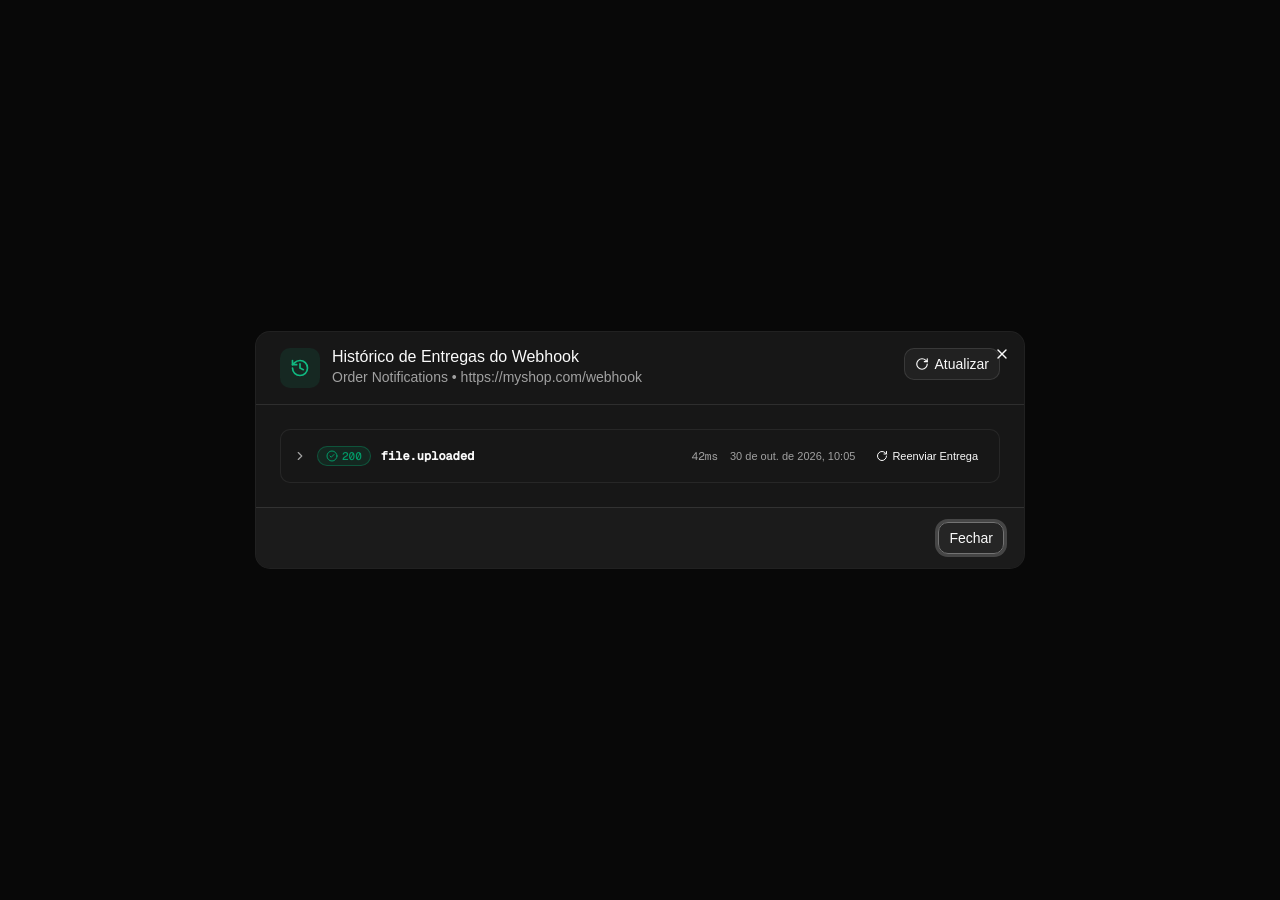
Test case: Frontend Webhooks Dialogs Suite › WebhookDeliveriesDialog displays deliveries and supports expansion
Expected: the text "200" is shown, left=342, top=449, right=362, bottom=463
Expected: the text "42ms" is shown, left=692, top=449, right=718, bottom=463
Click the text "file.uploaded" at [428, 456], box left=381, top=448, right=474, bottom=464
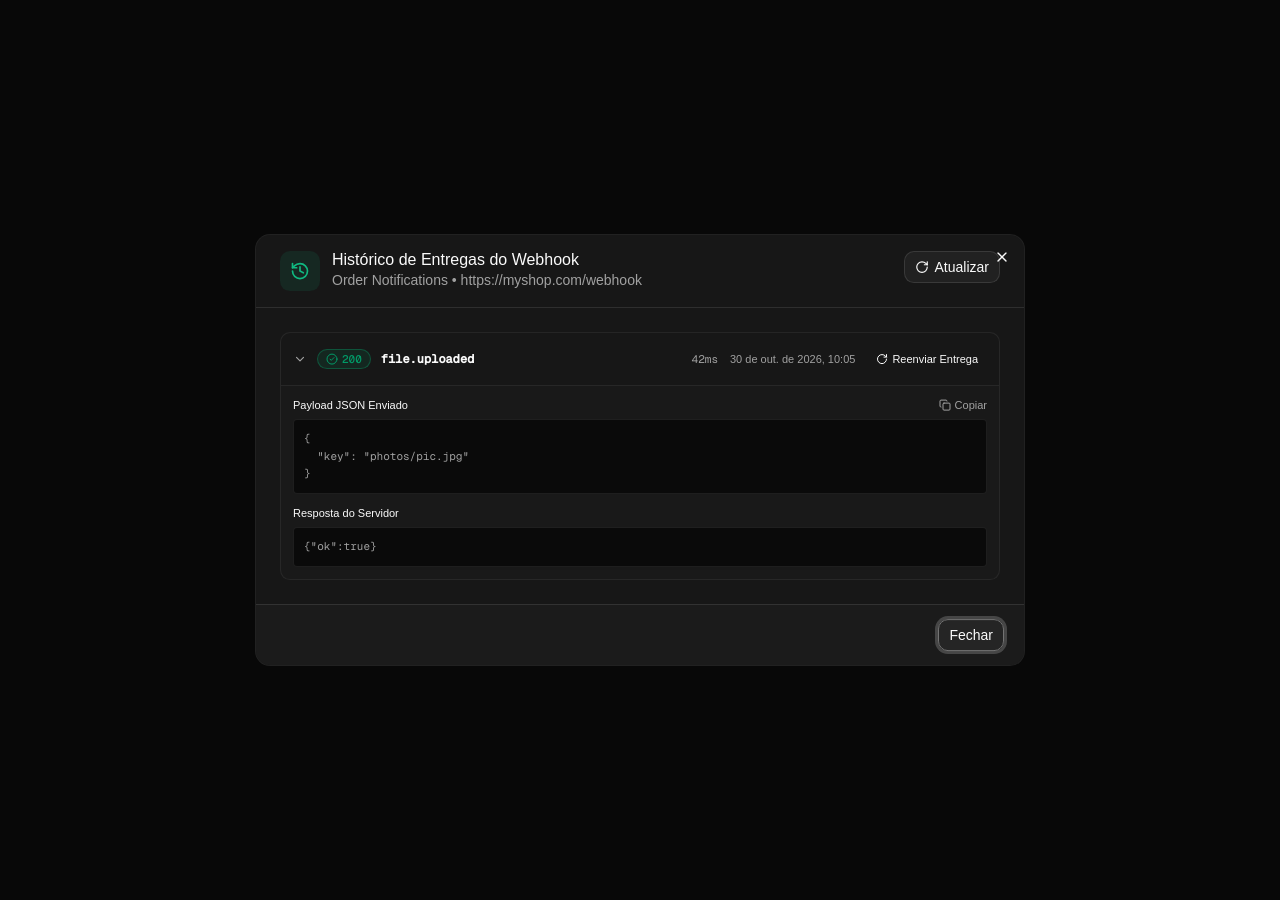
Result: the text "{ \"key\": \"photos/pic.jpg\" }" is shown at left=293, top=419, right=987, bottom=494
